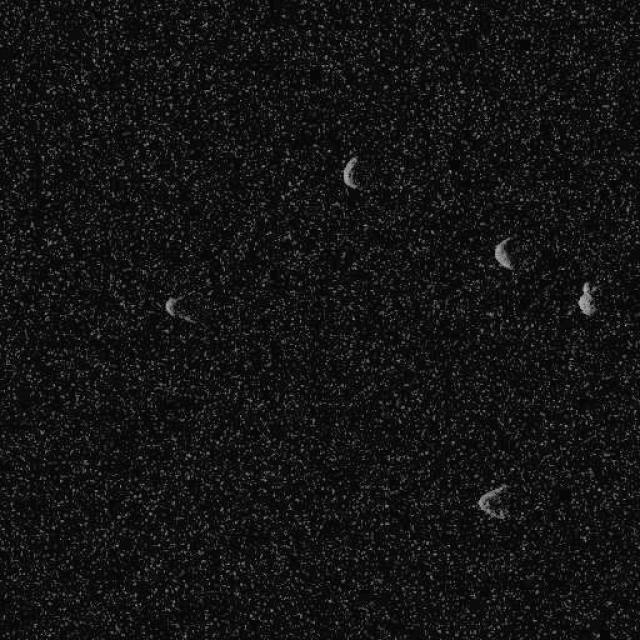D2: (475, 482, 510, 522), (164, 294, 198, 324), (576, 280, 598, 316), (493, 235, 515, 270), (341, 155, 360, 189)
